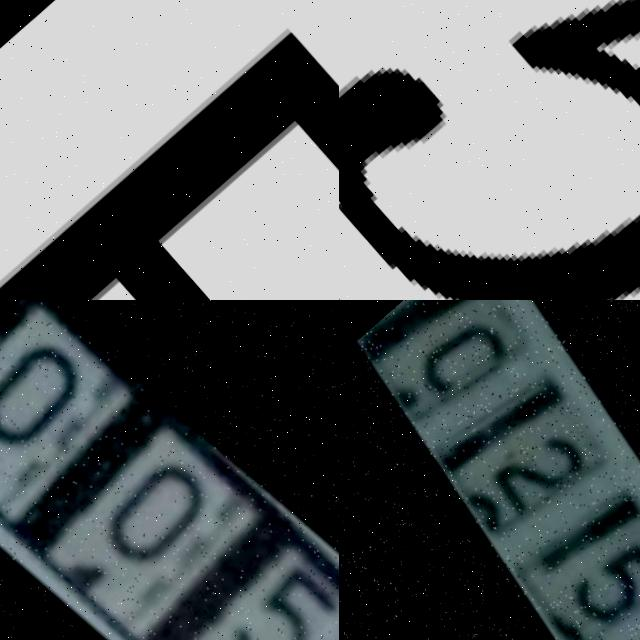0: (71, 415, 236, 587), (0, 300, 121, 486), (404, 300, 535, 414)
2: (476, 391, 610, 531)
5: (339, 0, 640, 300), (201, 523, 339, 640), (553, 504, 640, 640)
P: (0, 19, 339, 300)
